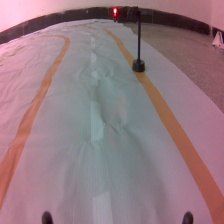red: (111, 3, 147, 75)
